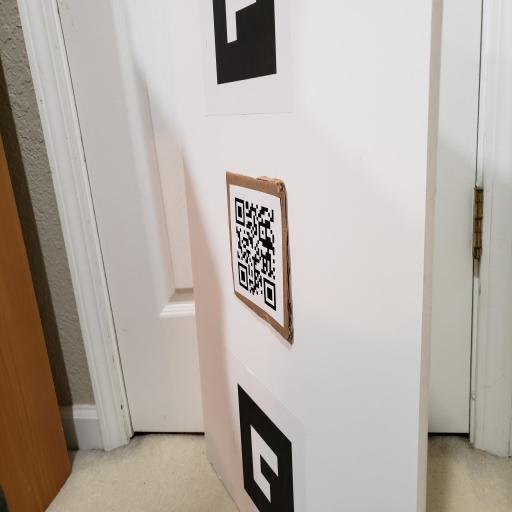qr_code: (235, 197, 276, 311)
